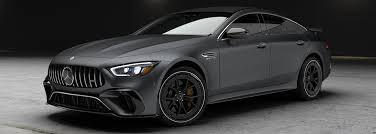mercedes: (59, 64, 81, 86)
